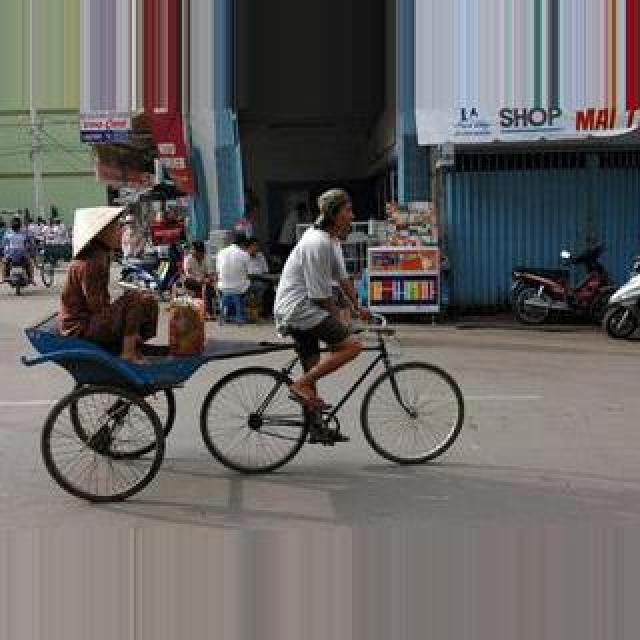Emergency Vehicles-Bike: (510, 236, 614, 328)
MC-Bike: (274, 186, 364, 430), (54, 214, 162, 362), (216, 230, 252, 328), (0, 218, 38, 288), (244, 238, 274, 324), (184, 242, 214, 318)
Person: (196, 314, 466, 474), (30, 242, 56, 288)
